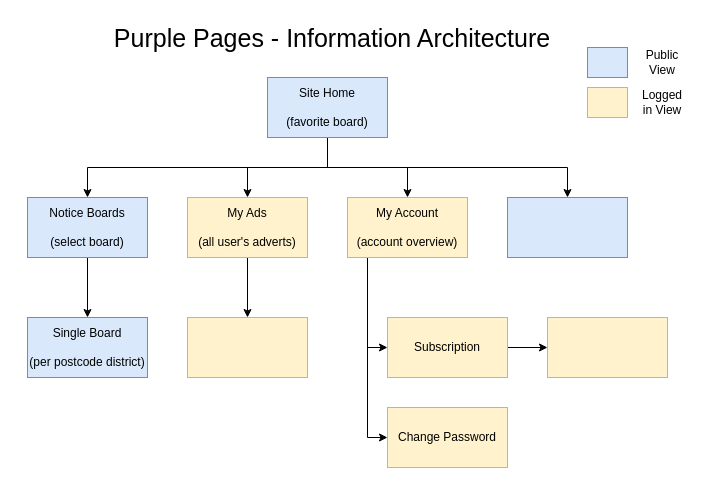
This 704x485 diagram has some shape labels left out. Here are the shapes that lost their labels. From the top down, the box of each, then its label:
(506, 196, 628, 258): Signup / Login / Logout
(186, 316, 308, 378): New / Edit Advert
(546, 316, 668, 378): Make Payment
